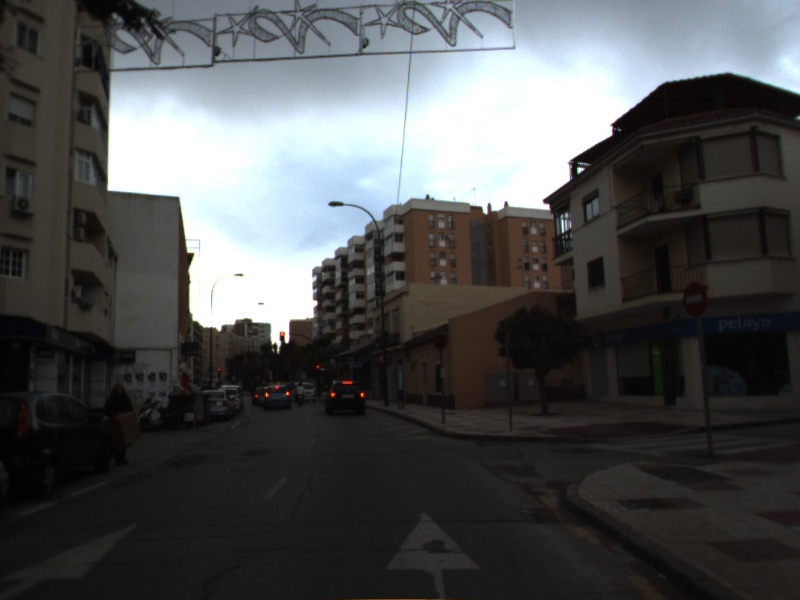STRAIGHT: (1, 515, 147, 600), (380, 510, 486, 600)
